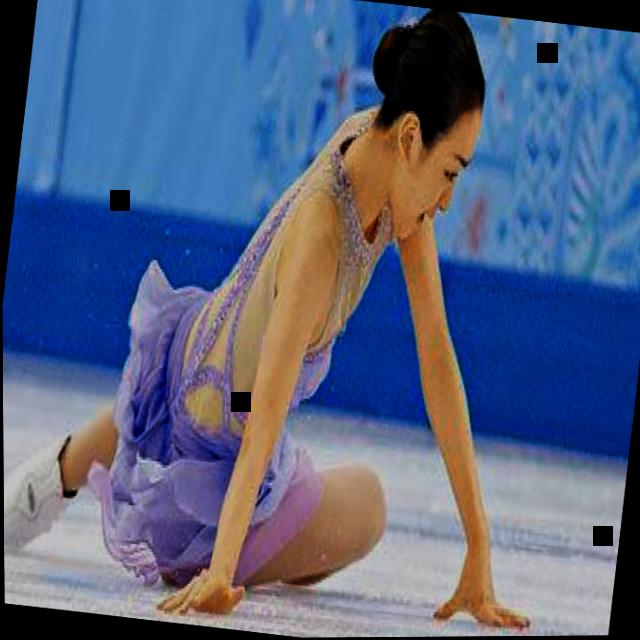Fall-Detected: (0, 0, 622, 640)
